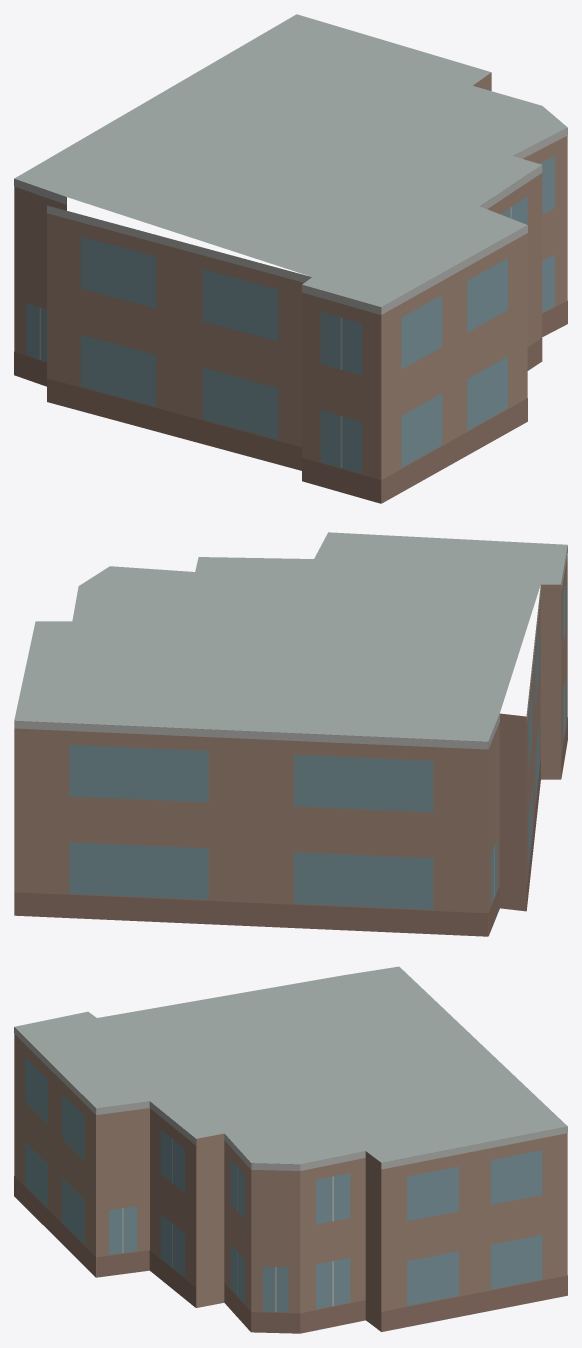
Rendered from survey-upis-32945374.glb.
3 renders of one model, top to bottom at view 1: azimuth 30°, elevation 25°; view 2: azimuth 150°, elevation 25°; view 3: azimuth 270°, elevation 25°, orthographic. The views are drawn at different scales.
Visible parts, largest first — view 1: survey-upis-32945374.tmp; view 2: survey-upis-32945374.tmp; view 3: survey-upis-32945374.tmp.
Part boxes in pixels (box(x1,y1,x2,y2)): survey-upis-32945374.tmp: box(14, 14, 567, 503); survey-upis-32945374.tmp: box(14, 532, 567, 936); survey-upis-32945374.tmp: box(14, 966, 567, 1333).
Bounding box in the file's own units: 15.39 × 6.1 × 18.09.
